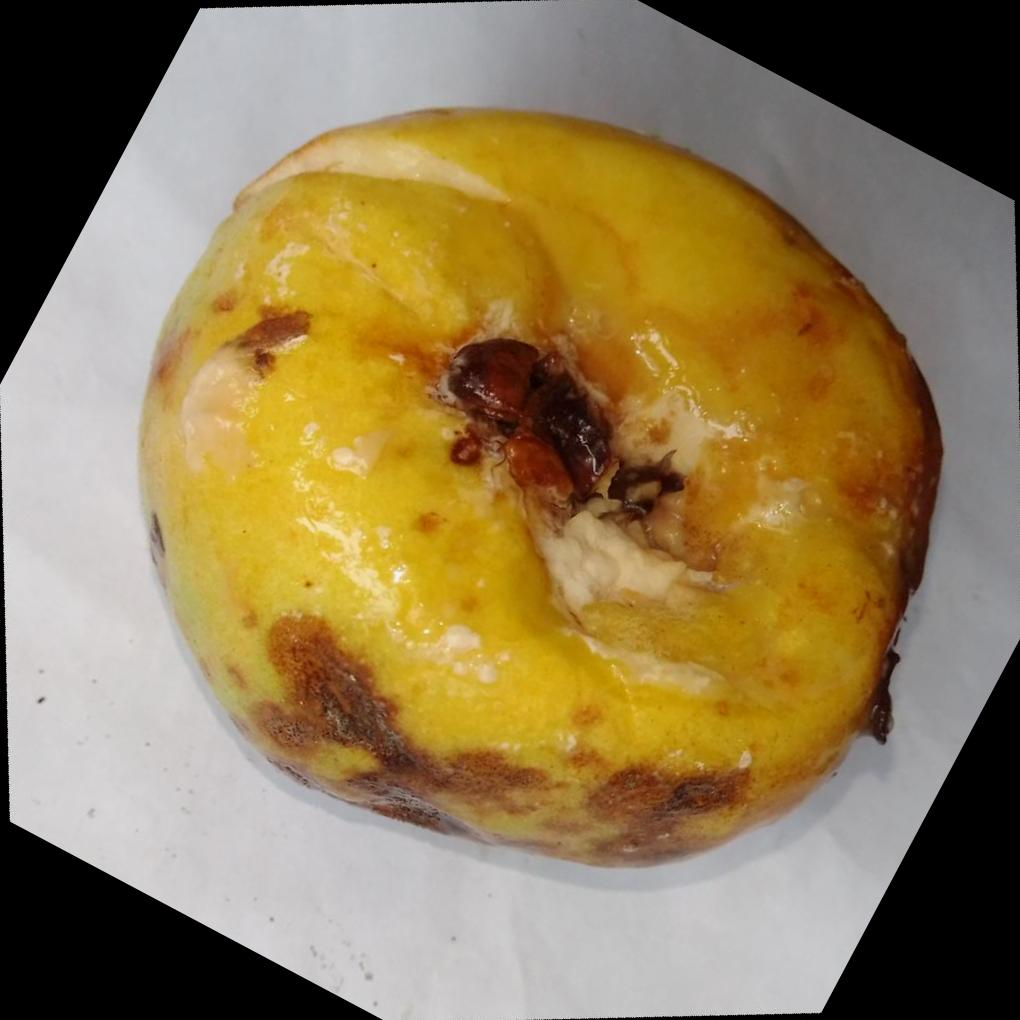FreshOrange: (135, 108, 942, 871)
